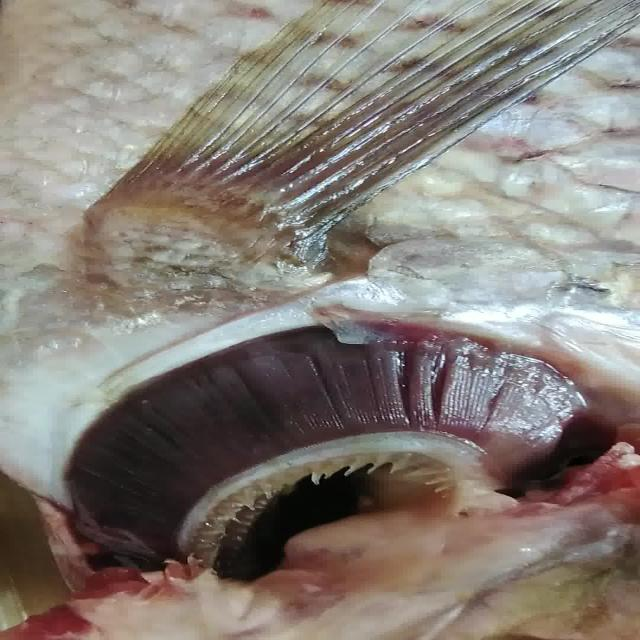Non-Fresh: (75, 307, 583, 601)
